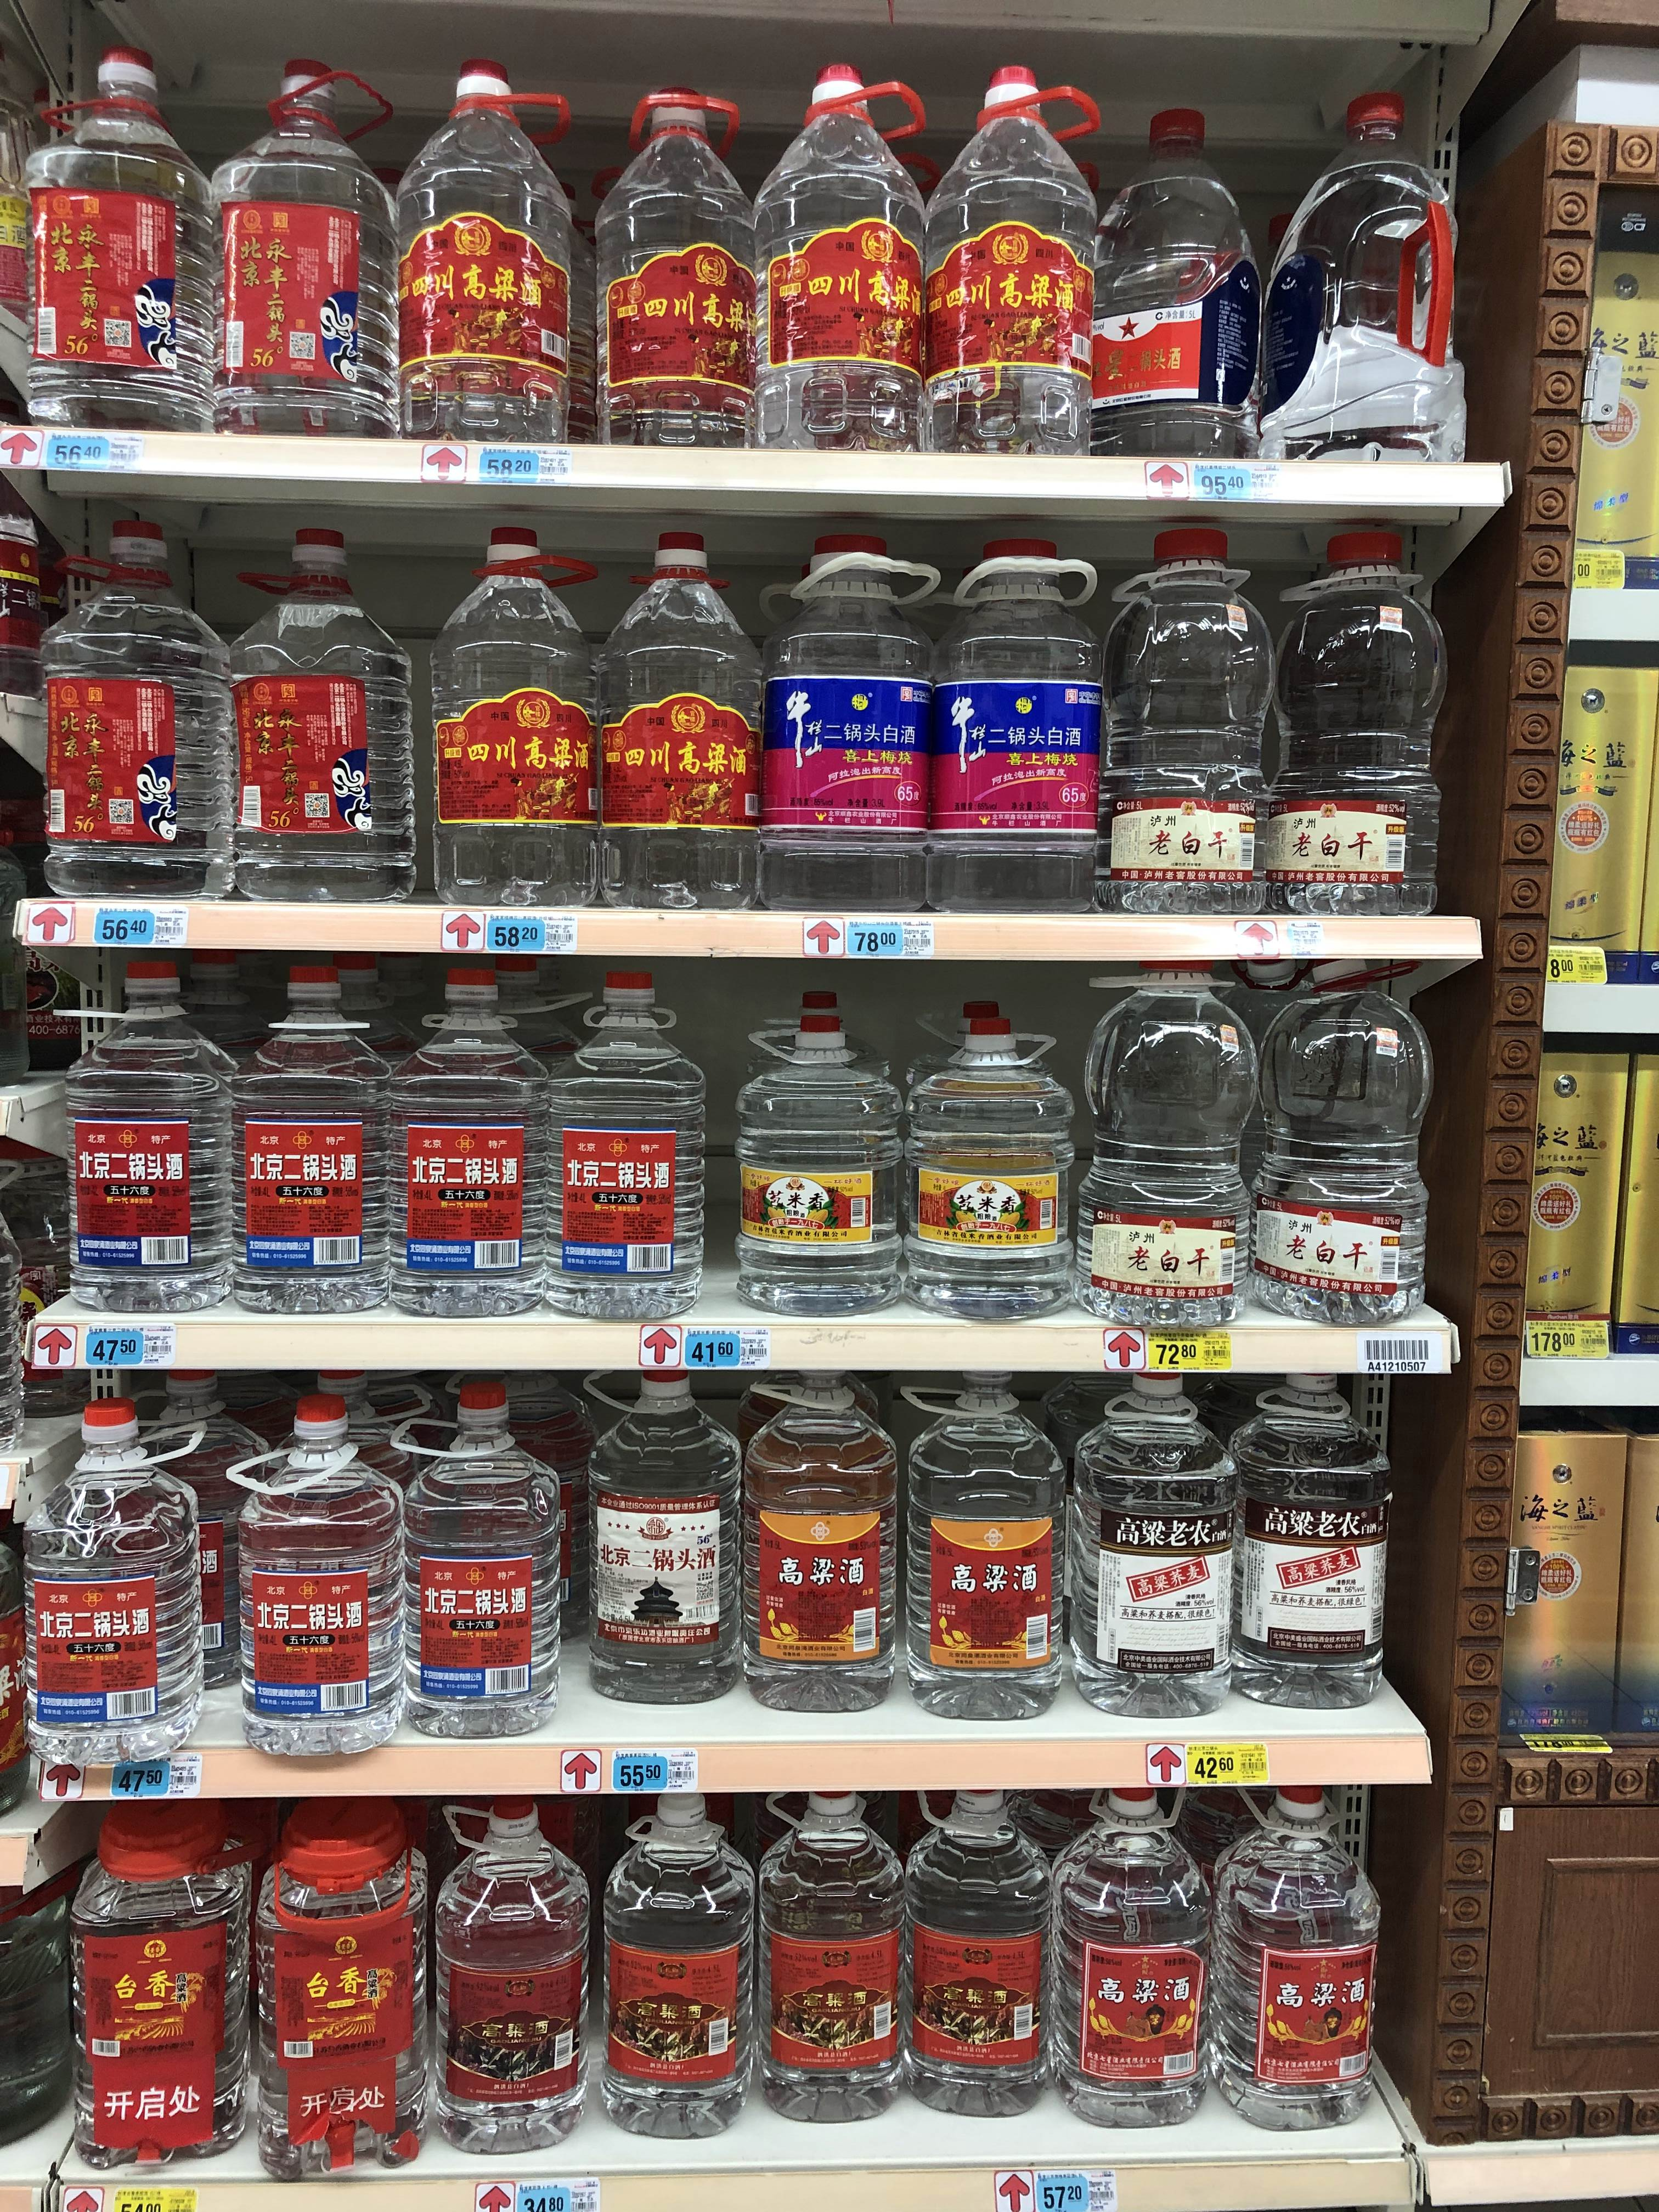bottle: (58, 1791, 256, 2160), (1267, 531, 1452, 928), (1241, 949, 1434, 1322), (390, 61, 575, 449), (199, 56, 382, 444), (1068, 948, 1253, 1329), (214, 529, 406, 895), (21, 54, 206, 428), (1096, 531, 1274, 913), (920, 66, 1091, 462), (21, 1400, 211, 1756), (251, 1796, 430, 2170), (1256, 94, 1441, 455), (1208, 1771, 1385, 2137), (751, 64, 917, 456), (1075, 105, 1256, 462), (425, 526, 596, 902), (45, 529, 223, 888), (927, 545, 1101, 911), (227, 1395, 403, 1756), (769, 538, 943, 902), (599, 535, 762, 911), (896, 1350, 1061, 1717), (596, 87, 760, 449), (218, 968, 389, 1310), (66, 963, 235, 1308), (1068, 1355, 1232, 1710), (1051, 1773, 1215, 2128), (892, 1763, 1053, 2120), (582, 1338, 741, 1698), (742, 1348, 899, 1712), (589, 1770, 744, 2137), (430, 1791, 586, 2153), (1222, 1359, 1382, 1709), (401, 1379, 558, 1733), (387, 974, 545, 1306), (753, 1768, 901, 2121), (735, 1003, 904, 1312), (547, 977, 697, 1315), (910, 1017, 1066, 1313)
box: (1476, 1426, 1628, 1747), (1507, 1031, 1628, 1353), (1546, 658, 1659, 970), (1582, 232, 1659, 552)
